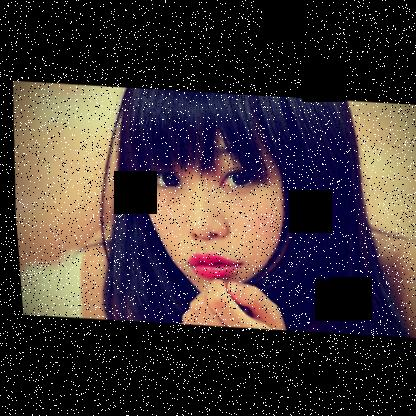Female: (132, 111, 289, 299)
